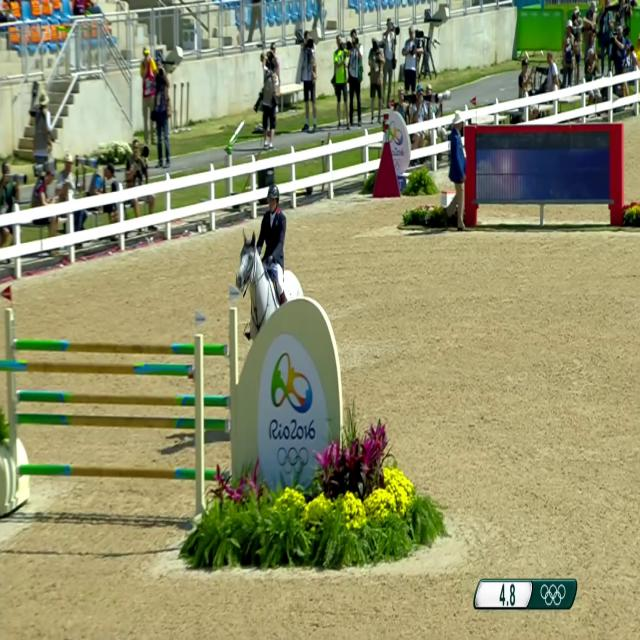Horse Rider: (256, 172, 292, 271)
Horse Running: (237, 236, 317, 378)
